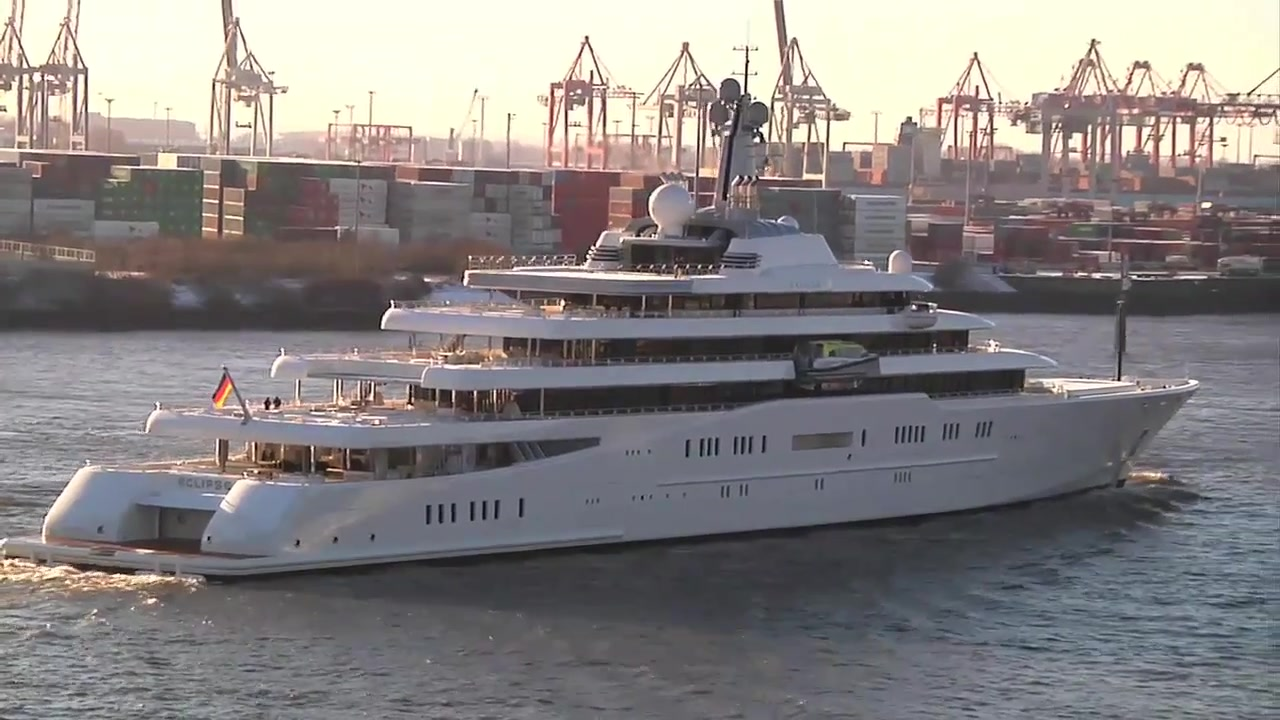boat: (2, 78, 1204, 584)
